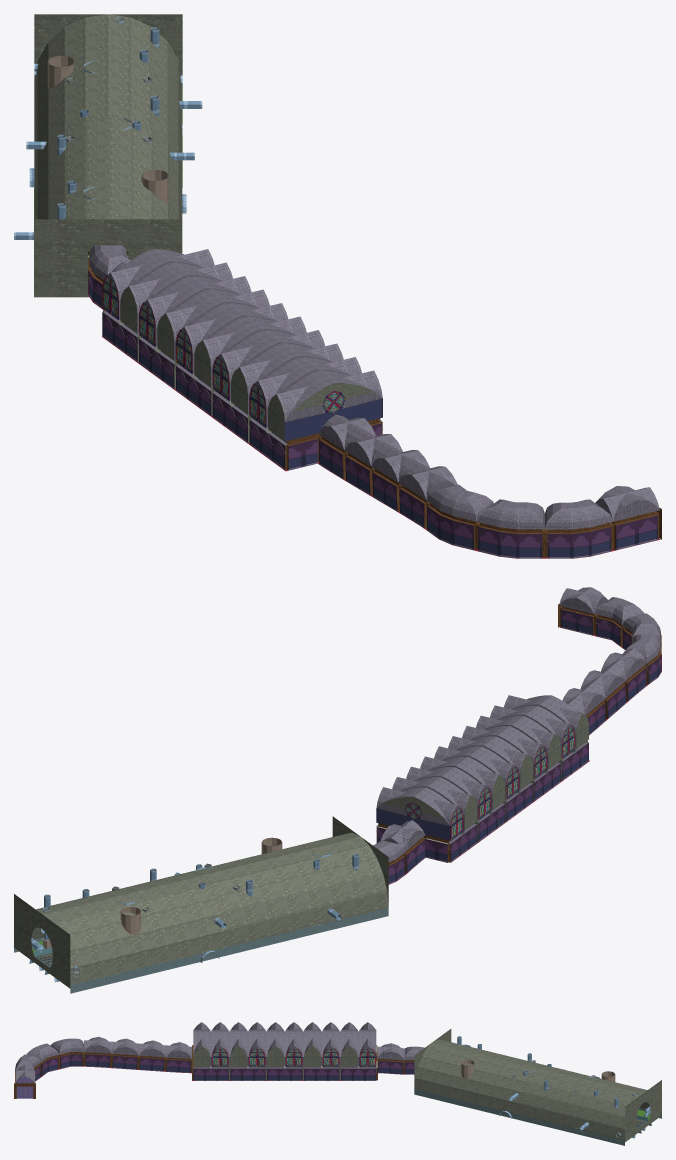
The picture shows the model from 3 angles, top to bottom: view 1: azimuth 30°, elevation 25°; view 2: azimuth 150°, elevation 25°; view 3: azimuth 270°, elevation 25°; orthographic projection. The views are drawn at different scales.
Parts seen in each view (by area): view 1: r4a_gens36Shape_013, r4a_gens36Shape_010, r4a_gens36Shape_008, r4a_gens36Shape_009, r4a_gens36Shape_000, r4a_gens36Shape_001, r4a_gens36Shape_002; view 2: r4a_gens36Shape_013, r4a_gens36Shape_010, r4a_gens36Shape_008, r4a_gens36Shape_004, r4a_gens36Shape_009, r4a_gens36Shape_000, r4a_gens36Shape_001, r4a_gens36Shape_002; view 3: r4a_gens36Shape_013, r4a_gens36Shape_010, r4a_gens36Shape_008, r4a_gens36Shape_009, r4a_gens36Shape_004, r4a_gens36Shape_000, r4a_gens36Shape_001, r4a_gens36Shape_002.
Boxes of the visible parts, x1,y1,x2,y2 form: r4a_gens36Shape_013: (34,14,587,541); r4a_gens36Shape_010: (89,245,659,529); r4a_gens36Shape_008: (88,270,657,558); r4a_gens36Shape_009: (102,276,345,427); r4a_gens36Shape_000: (88,259,661,557); r4a_gens36Shape_001: (14,17,202,239); r4a_gens36Shape_002: (47,55,168,202); r4a_gens36Shape_013: (14,618,660,988); r4a_gens36Shape_010: (373,587,660,862); r4a_gens36Shape_008: (376,609,661,884); r4a_gens36Shape_004: (14,908,388,993); r4a_gens36Shape_009: (404,726,574,840); r4a_gens36Shape_000: (376,603,661,872); r4a_gens36Shape_001: (29,849,358,982); r4a_gens36Shape_002: (43,837,282,948); r4a_gens36Shape_013: (35,1029,661,1142); r4a_gens36Shape_010: (15,1022,424,1083); r4a_gens36Shape_008: (35,1054,414,1080); r4a_gens36Shape_009: (211,1049,376,1066); r4a_gens36Shape_004: (414,1089,661,1145); r4a_gens36Shape_000: (14,1045,414,1098); r4a_gens36Shape_001: (457,1036,651,1138); r4a_gens36Shape_002: (461,1060,615,1081).
Size of what is drawn, in the model's own units: 113 by 30.86 by 384.
